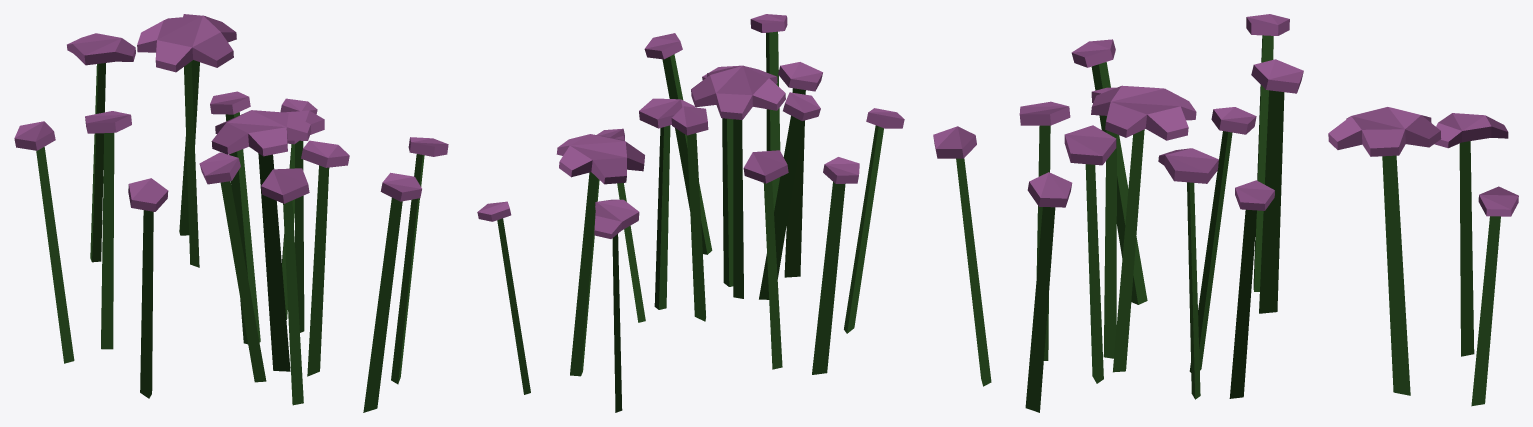
File: SM_Env_Flowers_01.fbx
The picture shows the model from 3 angles, left to right: view 1: azimuth 30°, elevation 25°; view 2: azimuth 150°, elevation 25°; view 3: azimuth 270°, elevation 25°; orthographic projection. The views are drawn at different scales.
Visible parts, largest first — view 1: SM_Env_Flowers_01; view 2: SM_Env_Flowers_01; view 3: SM_Env_Flowers_01.
Part boxes in pixels (<box>): SM_Env_Flowers_01: <box>14,14,448,412</box>; SM_Env_Flowers_01: <box>477,14,904,412</box>; SM_Env_Flowers_01: <box>933,14,1518,412</box>.
Size of the model in its own units: 1.04 by 0.7455 by 1.48.
1 material, 1 textured.
